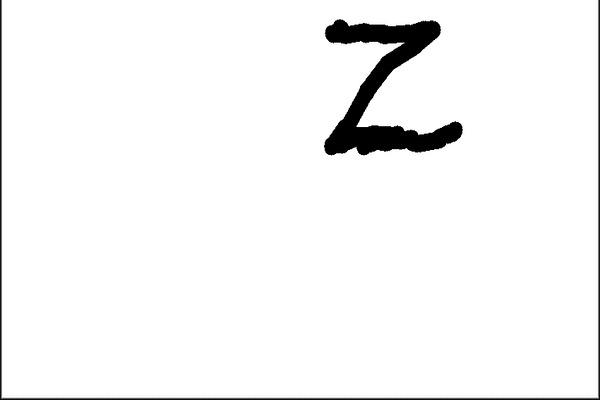Z: (314, 10, 477, 161)
